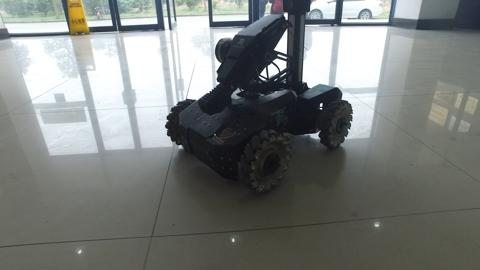car: (305, 1, 384, 20)
chariot: (163, 1, 353, 194)
